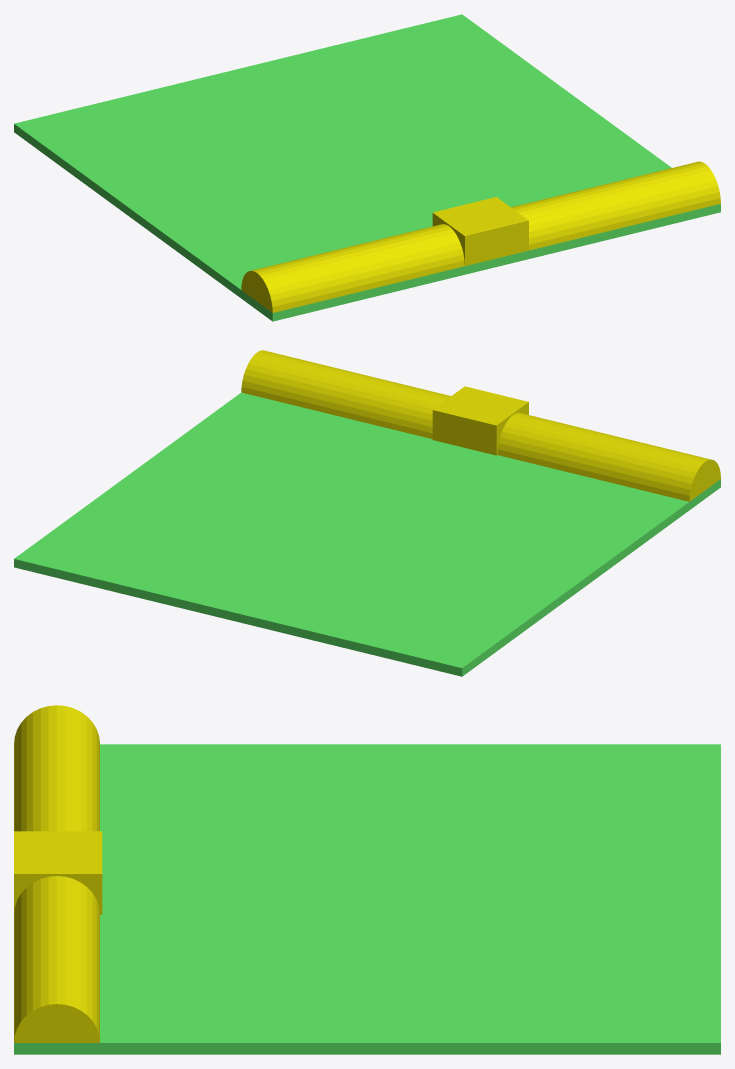
The model's file is way3.fbx.
3 renders of one model, top to bottom at view 1: azimuth 30°, elevation 25°; view 2: azimuth 150°, elevation 25°; view 3: azimuth 270°, elevation 25°, orthographic. The views are drawn at different scales.
Parts seen in each view (by area): view 1: Cube.002; view 2: Cube.002; view 3: Cube.002.
Part boxes in pixels (box(x1,y1,x2,y2)): Cube.002: box(14, 14, 720, 321); Cube.002: box(14, 350, 720, 676); Cube.002: box(14, 705, 720, 1054).
Size of the model in its own units: 912 by 75.09 by 912.
